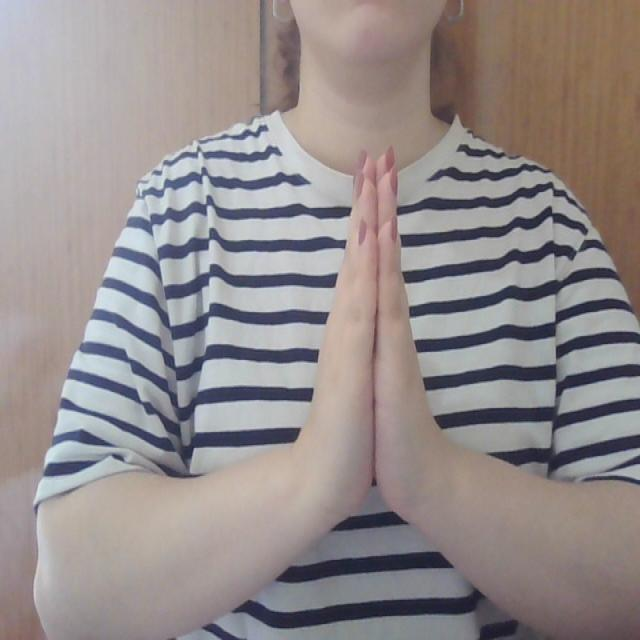Ozur-Dilemek: (304, 138, 442, 560)
